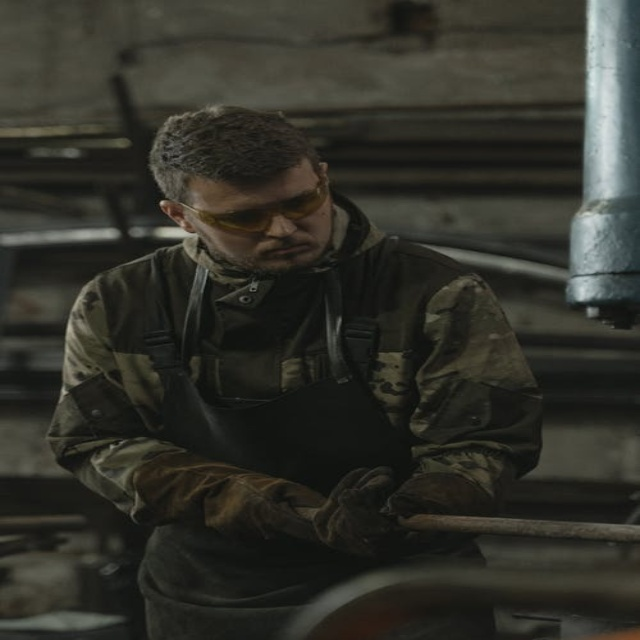Gafas: (177, 172, 326, 232)
Guantes: (165, 455, 390, 560), (389, 447, 518, 549)
Sin_mascara: (253, 233, 320, 269)
